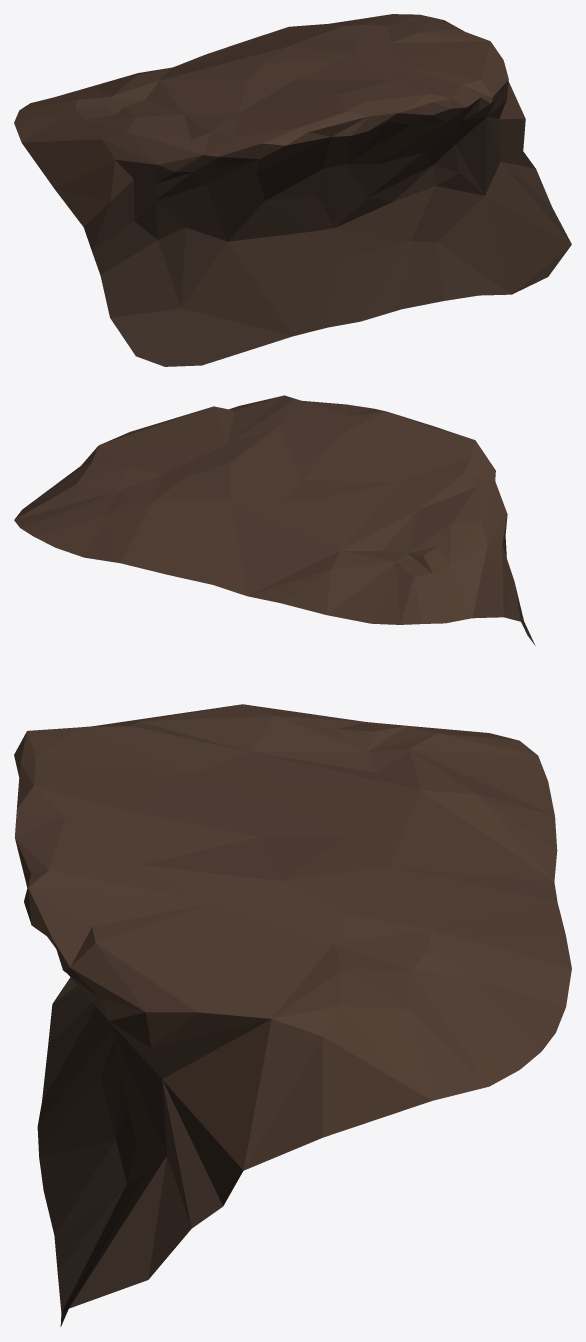
The picture shows the model from 3 angles, top to bottom: view 1: azimuth 30°, elevation 25°; view 2: azimuth 150°, elevation 25°; view 3: azimuth 270°, elevation 25°; orthographic projection. The views are drawn at different scales.
Visible parts, largest first — view 1: SM_Terrain_GrassEdge_02; view 2: SM_Terrain_GrassEdge_02; view 3: SM_Terrain_GrassEdge_02.
Part boxes in pixels (x1=…): SM_Terrain_GrassEdge_02: x1=14, y1=14, x2=571, y2=366; SM_Terrain_GrassEdge_02: x1=14, y1=395, x2=535, y2=645; SM_Terrain_GrassEdge_02: x1=14, y1=704, x2=571, y2=1326.
Bounding box in the file's own units: 6.49 × 3.18 × 4.16.
1 material, 1 textured.
